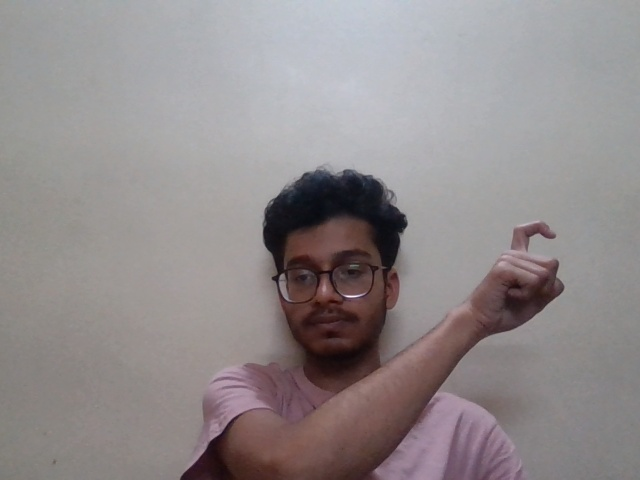Z: (449, 217, 585, 355)
